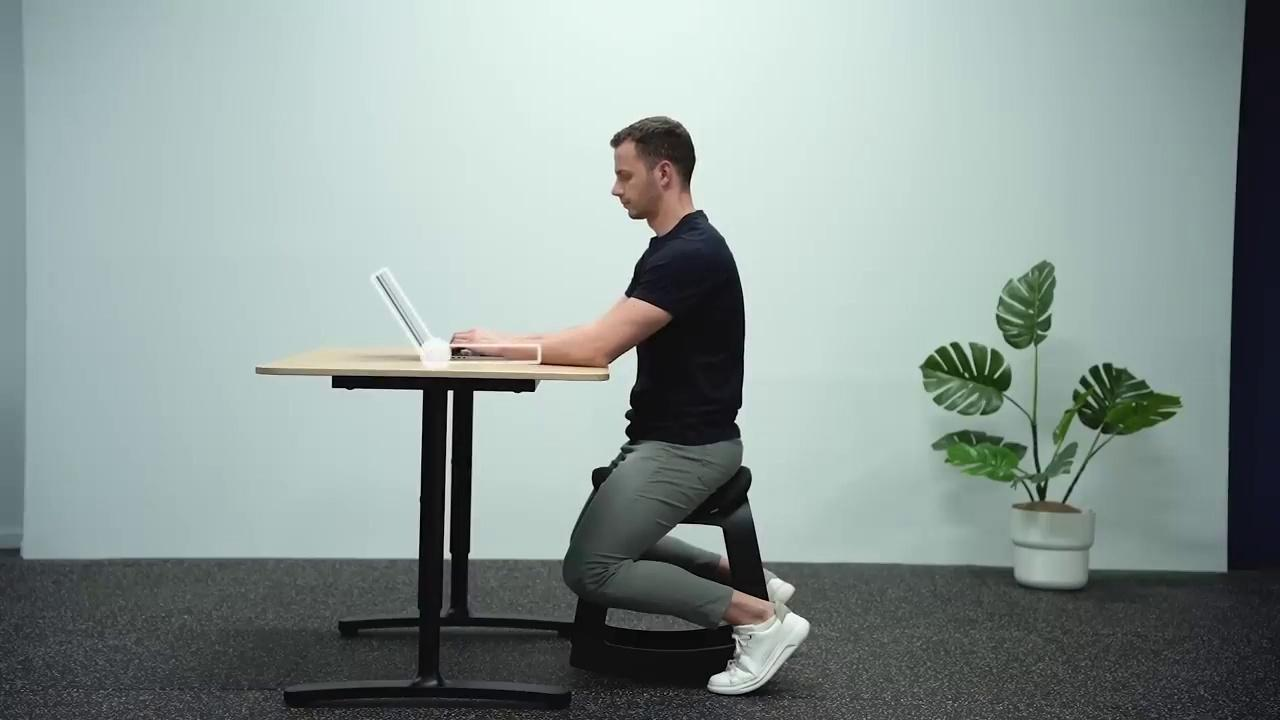GoodPosture: (22, 0, 1246, 567), (446, 115, 810, 694)
